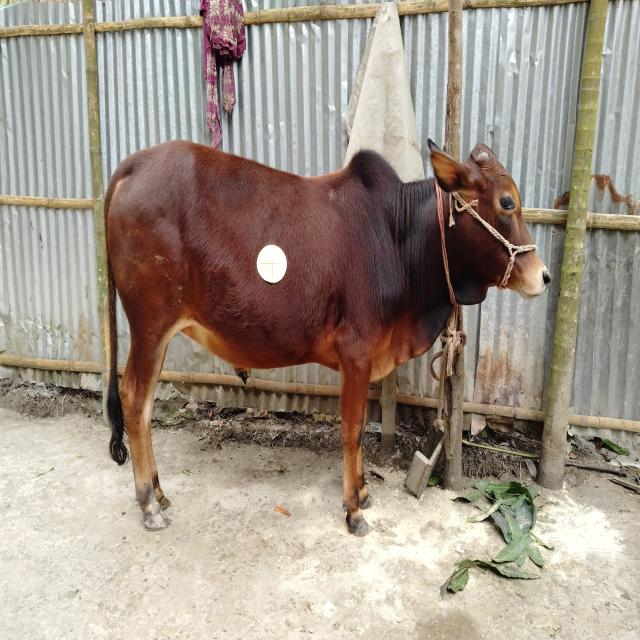badan_sapi: (106, 172, 408, 368)
sapi: (84, 132, 556, 542)
